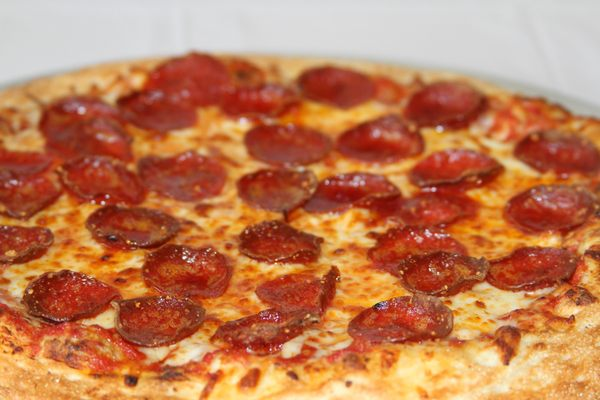sandwich: (0, 52, 600, 390)
